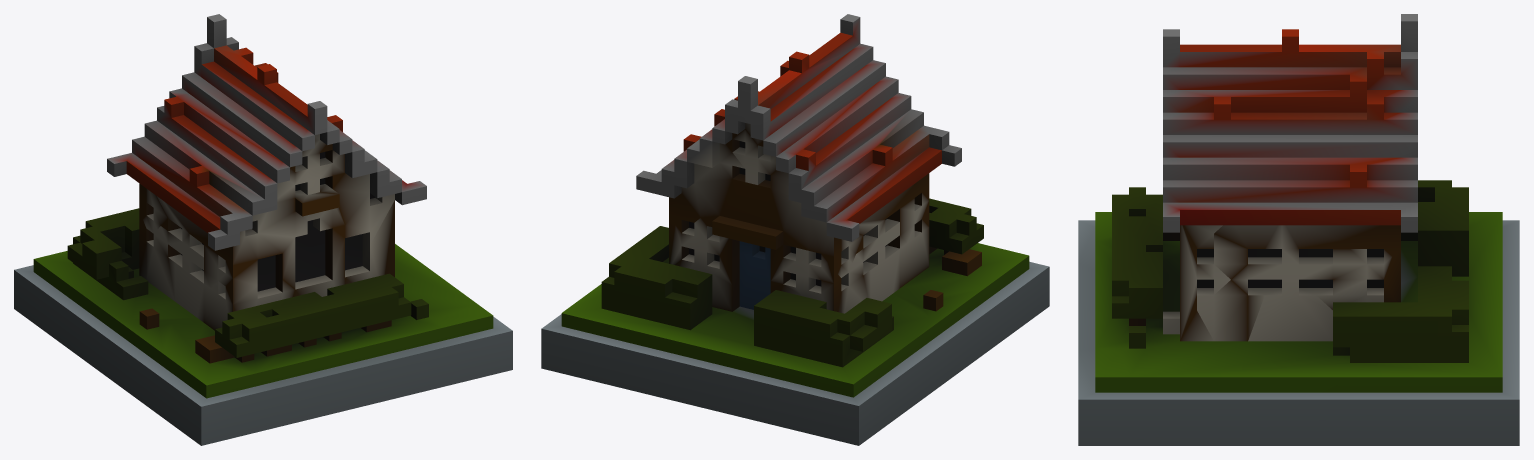
The model's file is voxel house_2.dae.
The picture shows the model from 3 angles, left to right: view 1: azimuth 30°, elevation 25°; view 2: azimuth 150°, elevation 25°; view 3: azimuth 270°, elevation 25°; orthographic projection. The views are drawn at different scales.
Parts seen in each view (by area): view 1: Voxel_House_bake; view 2: Voxel_House_bake; view 3: Voxel_House_bake.
Part boxes in pixels (x1,y1,x2,y2): Voxel_House_bake: (14, 14, 512, 445); Voxel_House_bake: (541, 14, 1049, 445); Voxel_House_bake: (1078, 14, 1519, 445).
Bounding box in the file's own units: 400 × 416 × 352.
